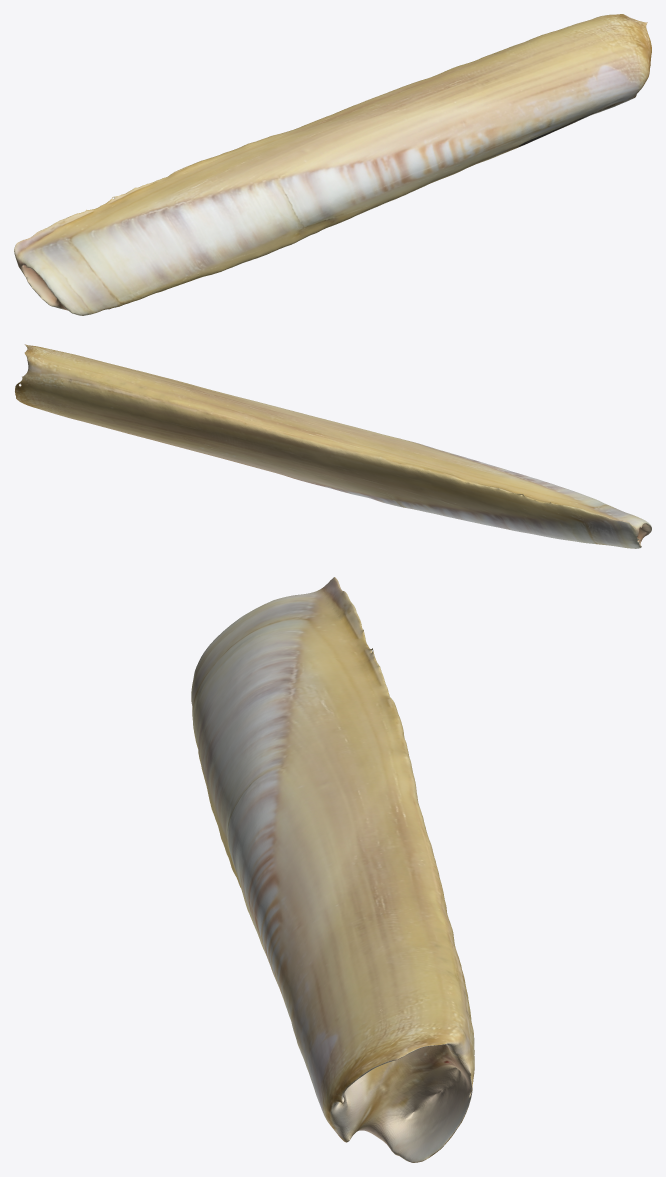
Rendered from MZUR3D-052.glb.
The picture shows the model from 3 angles, top to bottom: view 1: azimuth 30°, elevation 25°; view 2: azimuth 150°, elevation 25°; view 3: azimuth 270°, elevation 25°; orthographic projection. The views are drawn at different scales.
Visible parts, largest first — view 1: MZUR3D-052; view 2: MZUR3D-052; view 3: MZUR3D-052.
Boxes of the visible parts, left/top/right/bottom form: MZUR3D-052: left=14, top=14, right=651, bottom=315; MZUR3D-052: left=15, top=344, right=651, bottom=548; MZUR3D-052: left=191, top=577, right=474, bottom=1162.
Size of the model in its own units: 7.57 by 1.19 by 1.57.
1 material, 1 textured.
